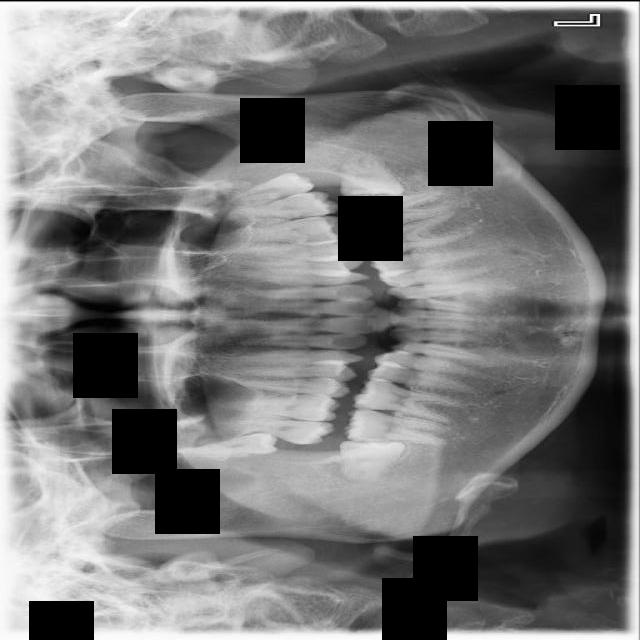3M ESPE Implant: (175, 430, 279, 462)
73: (543, 41, 546, 44)
BioHorizons Implant: (225, 189, 338, 226)
BioLife Implant: (224, 168, 315, 204)
Biomet 3i Implant: (339, 148, 406, 199)
Blue Sky Bio Implant: (342, 187, 458, 232)
Caries: (204, 411, 336, 447)
Implant: (343, 406, 452, 446)
Keystone Dental Implant: (338, 437, 405, 482)
